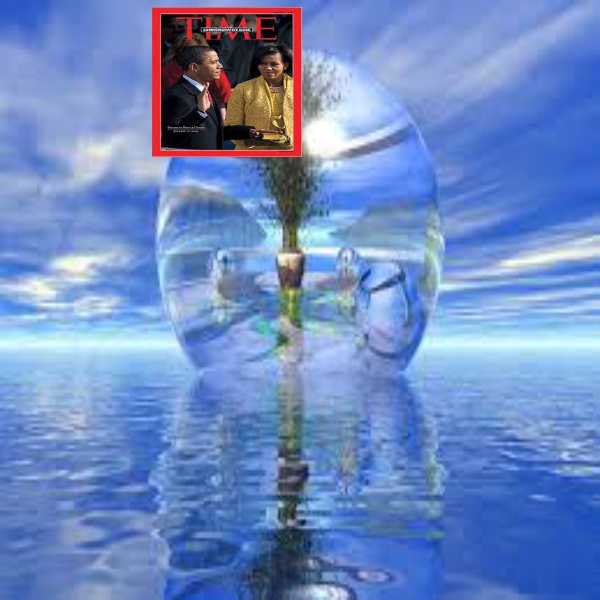time_cover: (143, 5, 299, 162)
